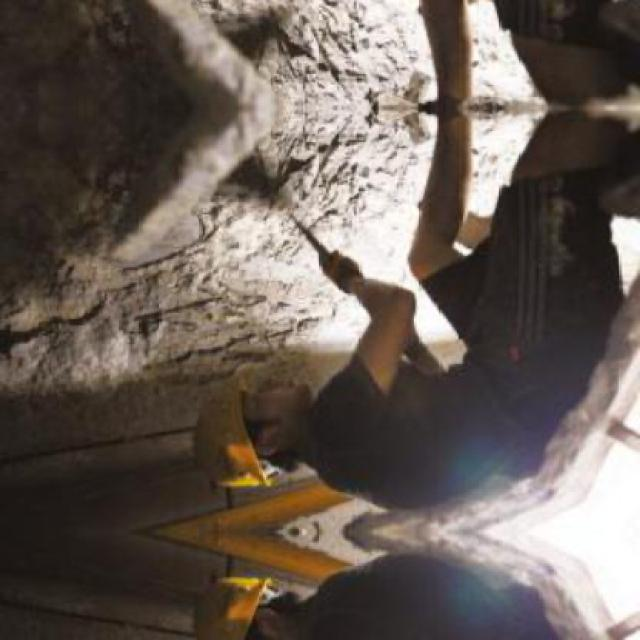con casco: (163, 353, 393, 526)
